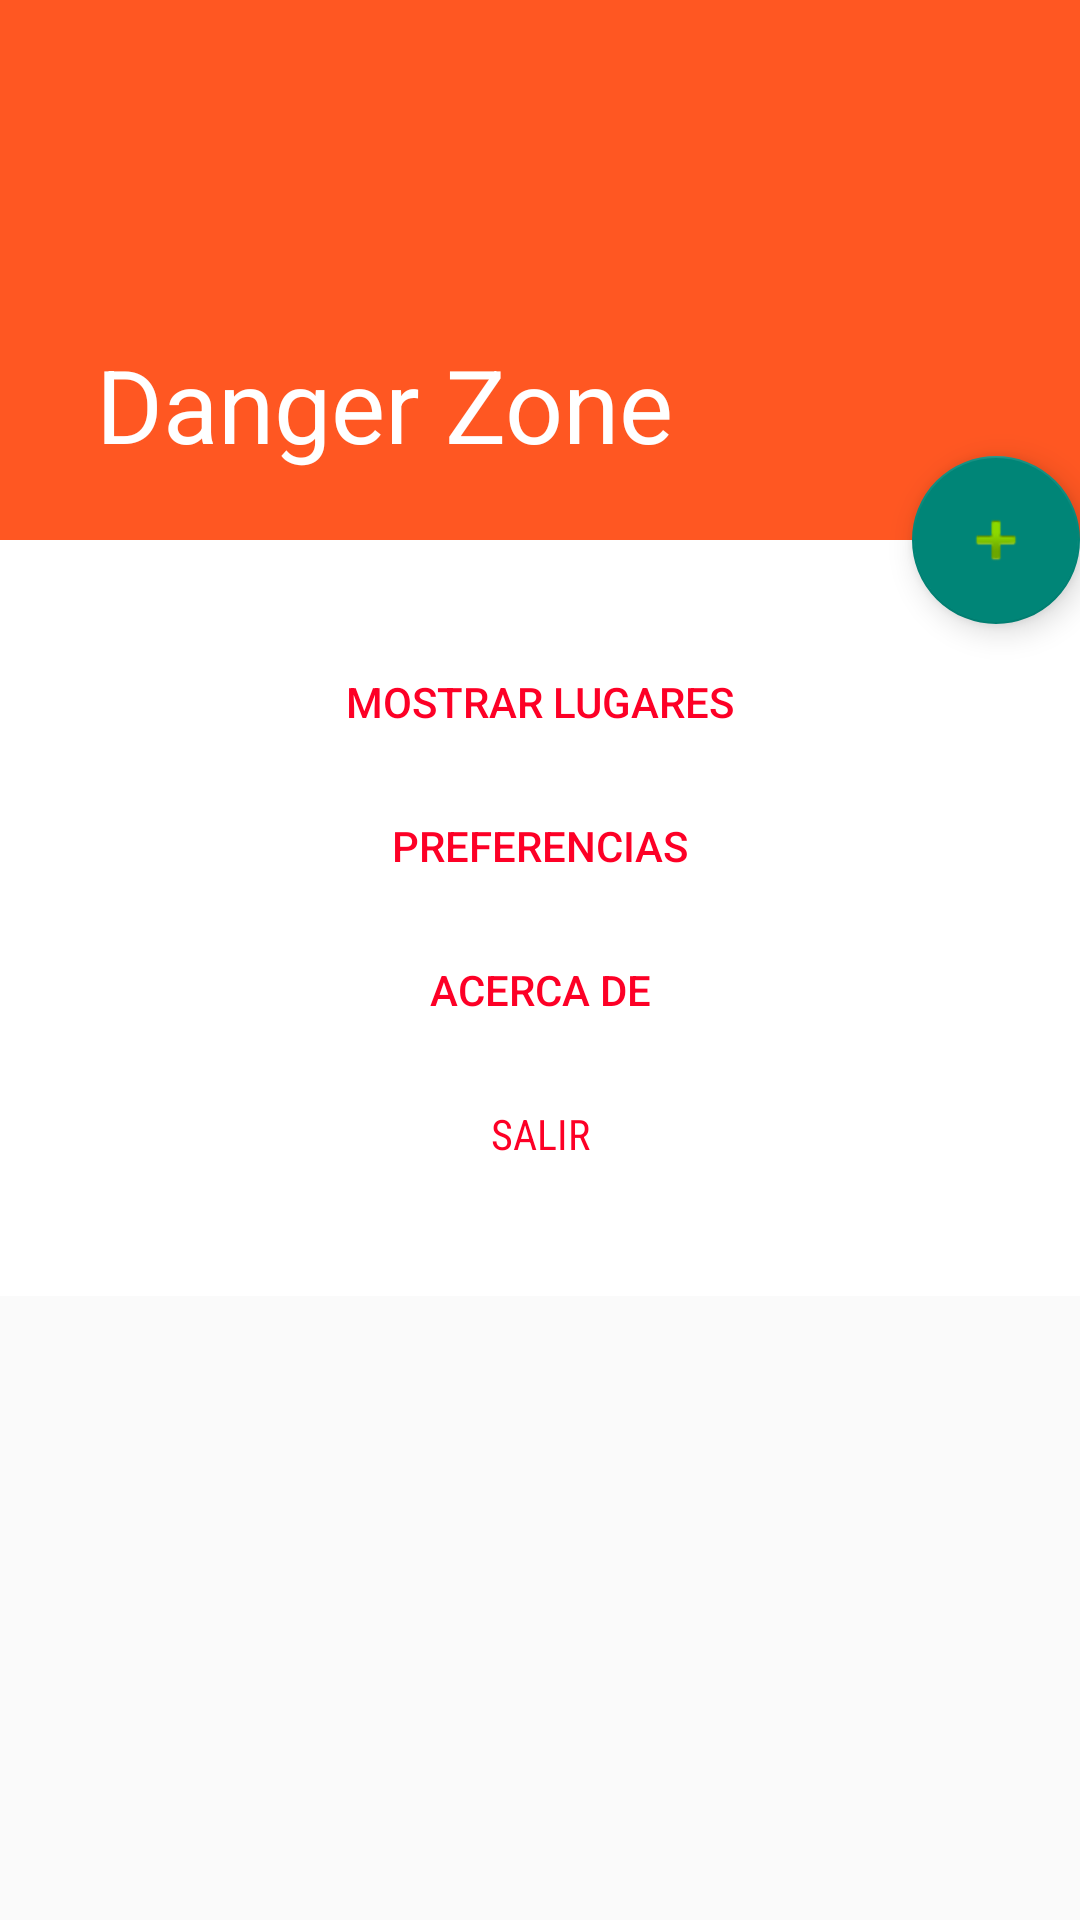

Icon click points for this 1080*1920 phone screenshot, format (x,y):
add: (996,540)
